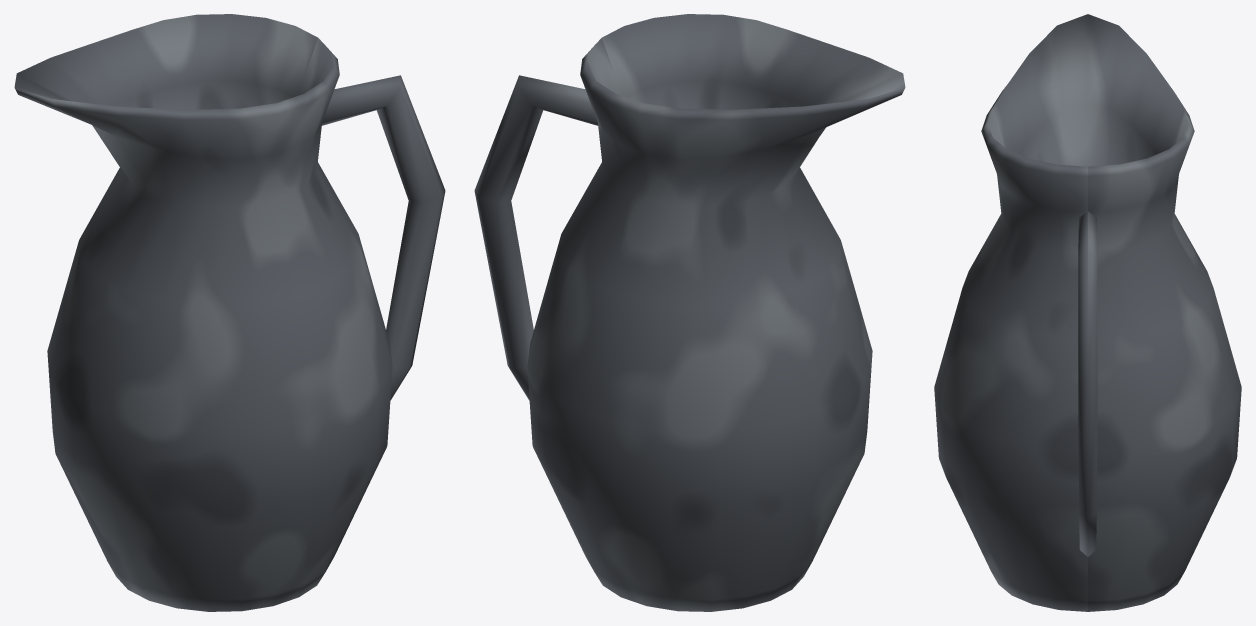
The model's file is metal_pitcher.glb.
3 views of the same model, side by side, from view 1: azimuth 30°, elevation 25°; view 2: azimuth 150°, elevation 25°; view 3: azimuth 270°, elevation 25° (orthographic). The views are drawn at different scales.
Visible parts, largest first — view 1: metal_pitcher_body, metal_pitcher_handle; view 2: metal_pitcher_body, metal_pitcher_handle; view 3: metal_pitcher_body, metal_pitcher_handle.
Boxes of the visible parts, x1,y1,x2,y2 form: metal_pitcher_body: (14,14,392,611); metal_pitcher_handle: (322,75,445,400); metal_pitcher_body: (527,14,905,611); metal_pitcher_handle: (474,75,597,400); metal_pitcher_body: (934,14,1241,611); metal_pitcher_handle: (1078,211,1097,556).
Size of what is drawn, in the model's own units: 0.281 by 0.33 by 0.196.
1 material, 1 textured.
